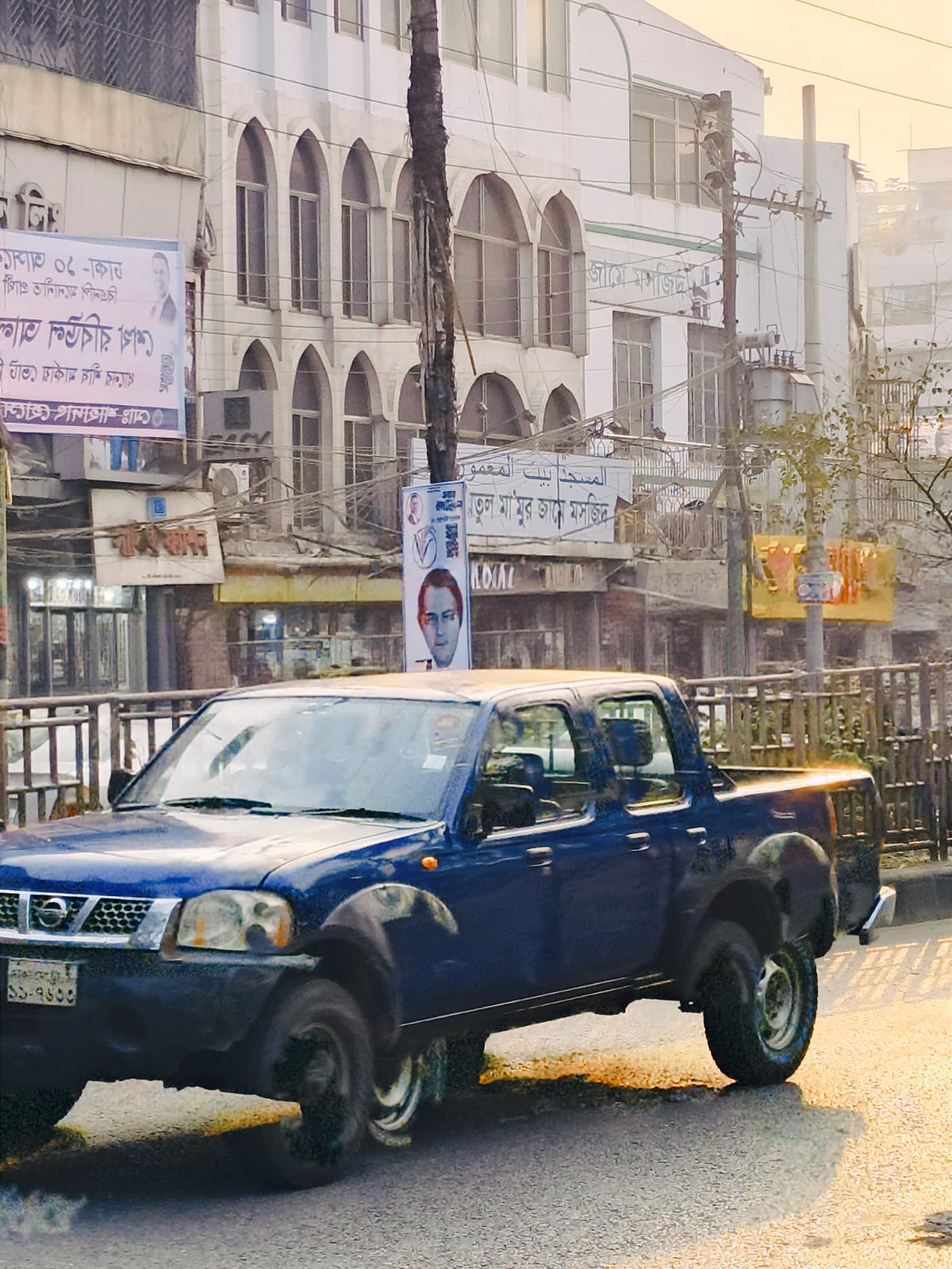Pickup: (8, 632, 859, 1129)
